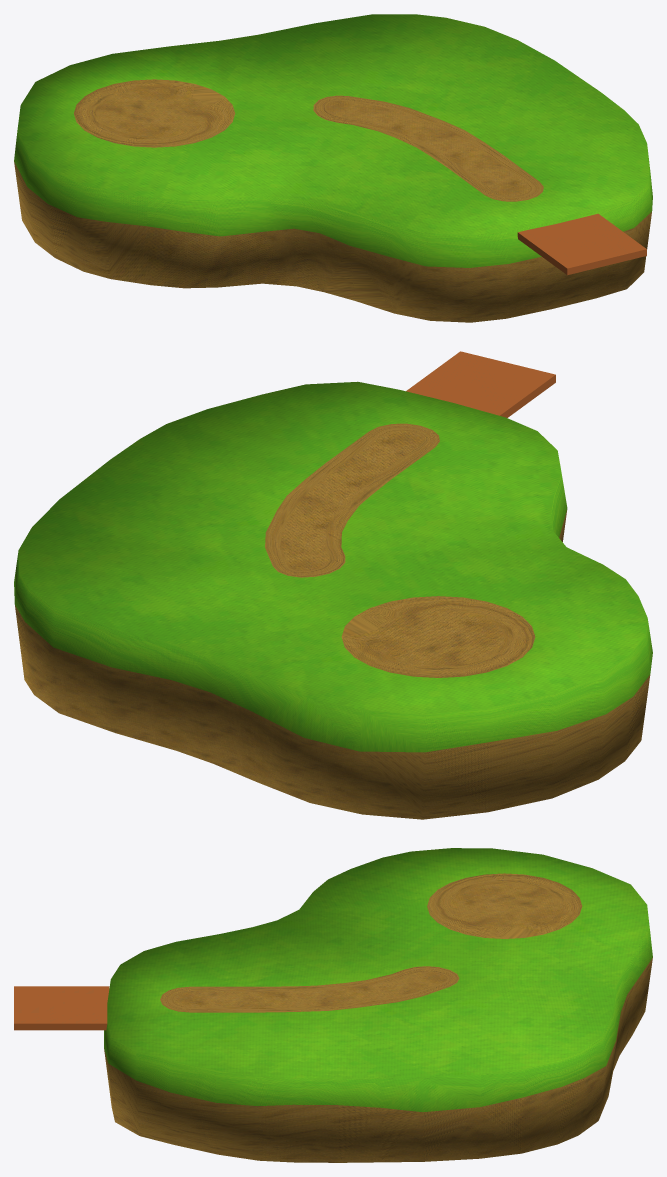
Rendered from Cloud3DStepA.obj.
The picture shows the model from 3 angles, top to bottom: view 1: azimuth 30°, elevation 25°; view 2: azimuth 150°, elevation 25°; view 3: azimuth 270°, elevation 25°; orthographic projection. The views are drawn at different scales.
Visible parts, largest first — view 1: Plane.003_Plane.009; view 2: Plane.003_Plane.009; view 3: Plane.003_Plane.009.
Boxes of the visible parts, left/top/right/bottom form: Plane.003_Plane.009: left=14, top=14, right=652, bottom=322; Plane.003_Plane.009: left=14, top=351, right=652, bottom=819; Plane.003_Plane.009: left=14, top=848, right=652, bottom=1162.
Bounding box in the file's own units: 1163 × 208 × 1345.
3 materials, 3 textured.
